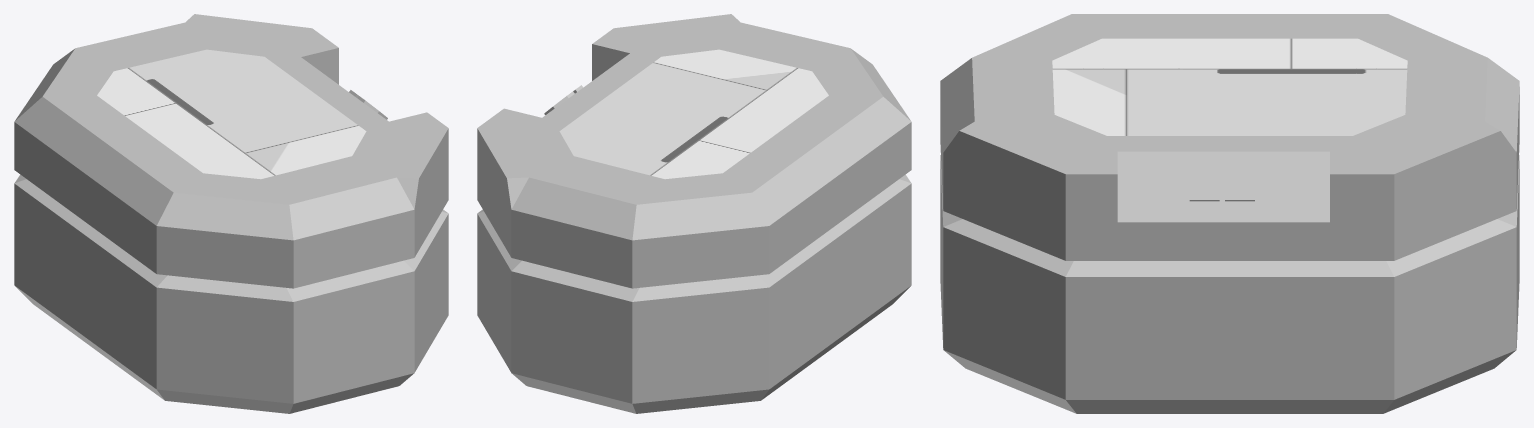
File: SM_ContainerS_Box_1.fbx
3 renders of one model, left to right at view 1: azimuth 30°, elevation 25°; view 2: azimuth 150°, elevation 25°; view 3: azimuth 270°, elevation 25°, orthographic. The views are drawn at different scales.
Visible parts, largest first — view 1: SM_ContainerS_Box_1; view 2: SM_ContainerS_Box_1; view 3: SM_ContainerS_Box_1.
Boxes of the visible parts, <box> form: SM_ContainerS_Box_1: <box>14,14,448,413</box>; SM_ContainerS_Box_1: <box>477,14,911,413</box>; SM_ContainerS_Box_1: <box>940,14,1519,413</box>.
Size of the model in its own units: 34.91 by 23.23 by 49.25.
